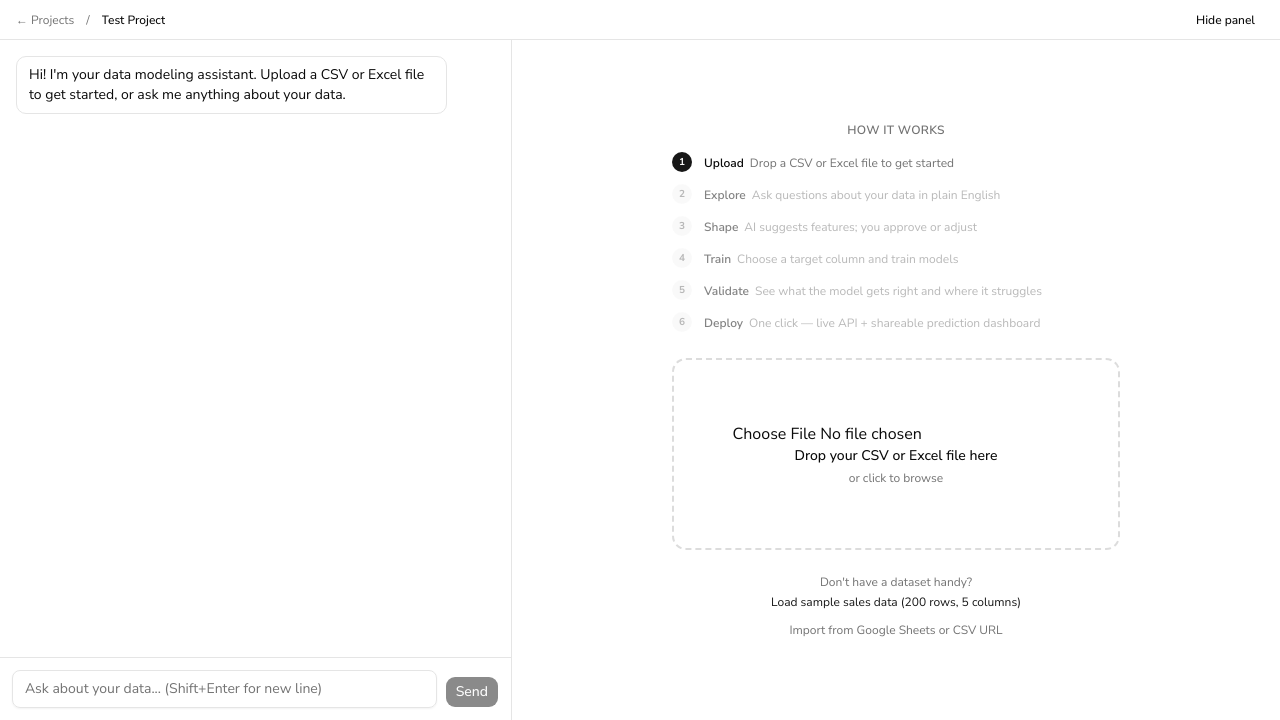
Test: ProjectWorkspace — chat functionality › handles connection error during streaming — shows error in chat
Type "Hello" into the text box with placeholder "Ask about your data... (Shift+Enter for new line)" at (224, 689), box [12, 670, 437, 708]
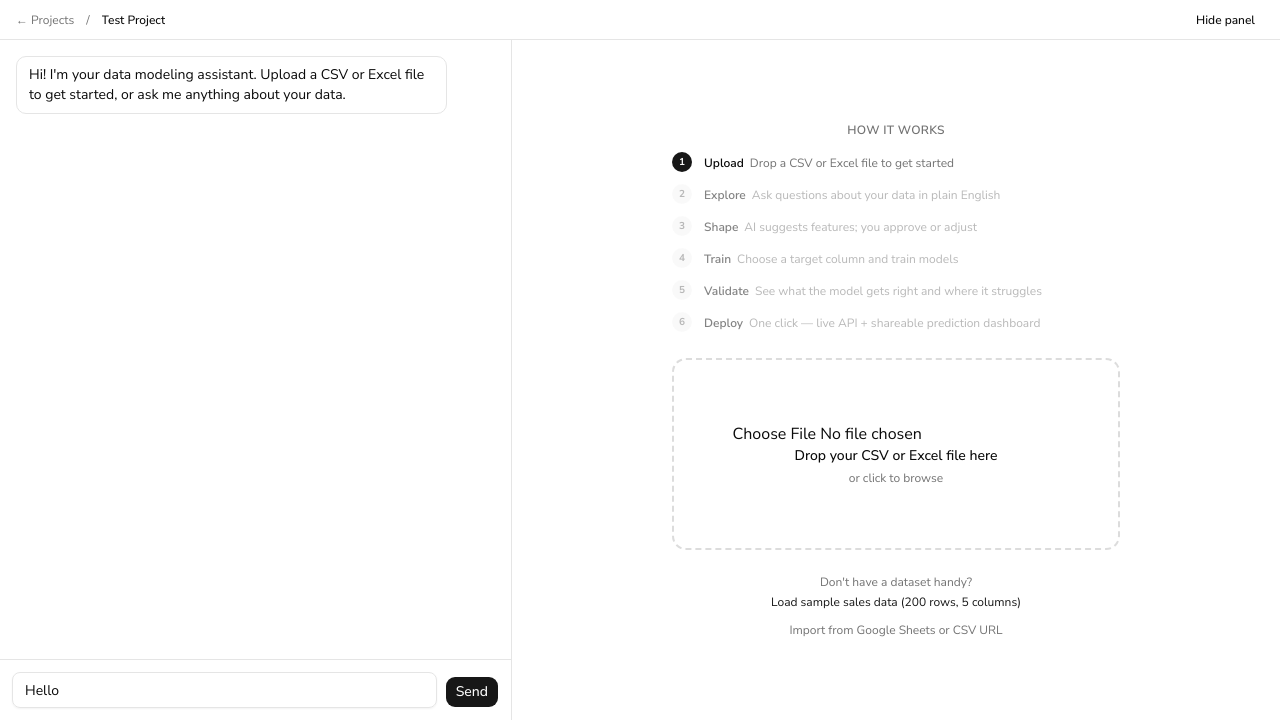
Click the button "Send" at (472, 692), box [445, 676, 499, 708]
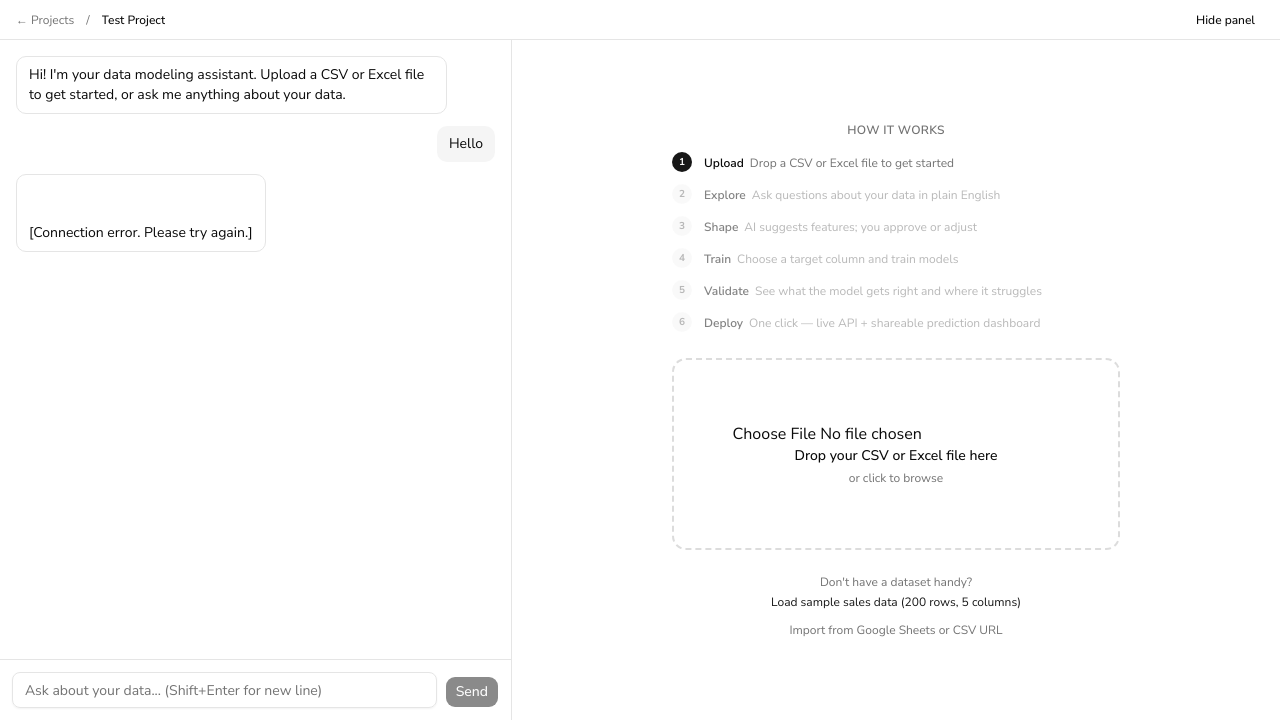
Result: the text "[Connection error. Please try again.]" is shown at [16, 174, 266, 252]
